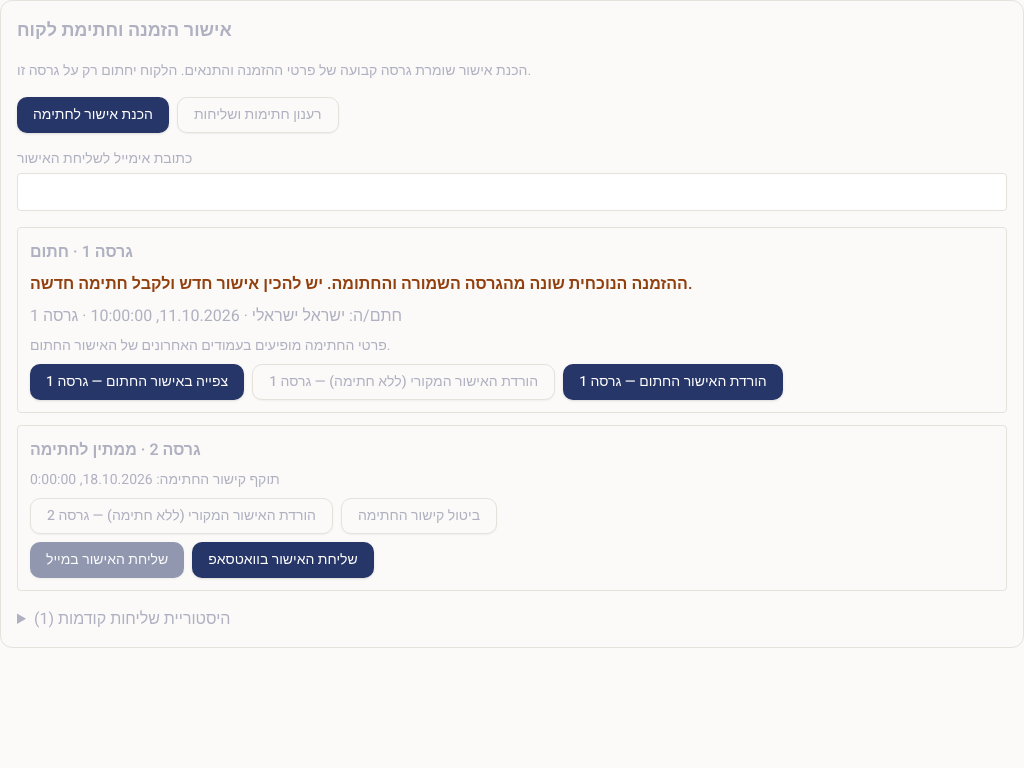
it: reports signed preview failures without requesting an unsigned fallback
Expected: the text "חתם/ה: ישראל ישראלי · 11.10.2026, 10:00:00 · גרסה 1" is shown, [30,304,402,328]
Click the button "צפייה באישור החתום — גרסה 1": click(137, 382) [30,364,244,400]
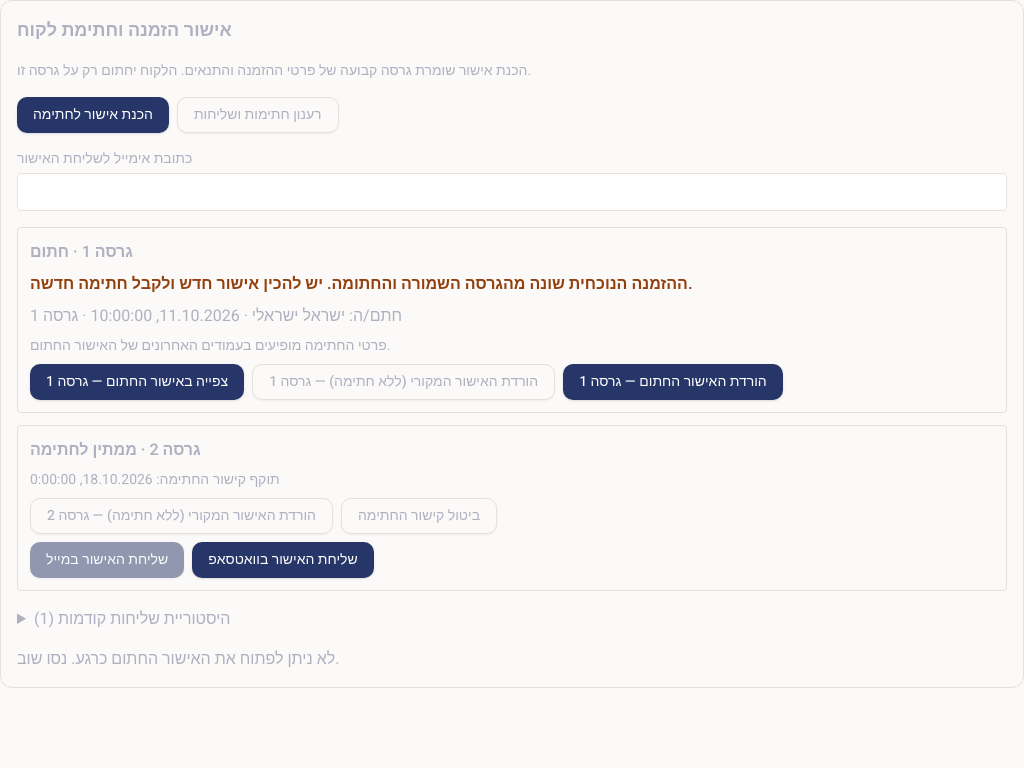
Result: the text "לא ניתן לפתוח את האישור החתום כרגע. נסו שוב." is shown at [17,647,339,671]
